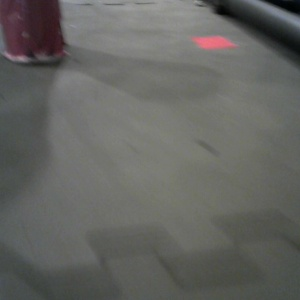Right: (242, 1, 300, 112)
